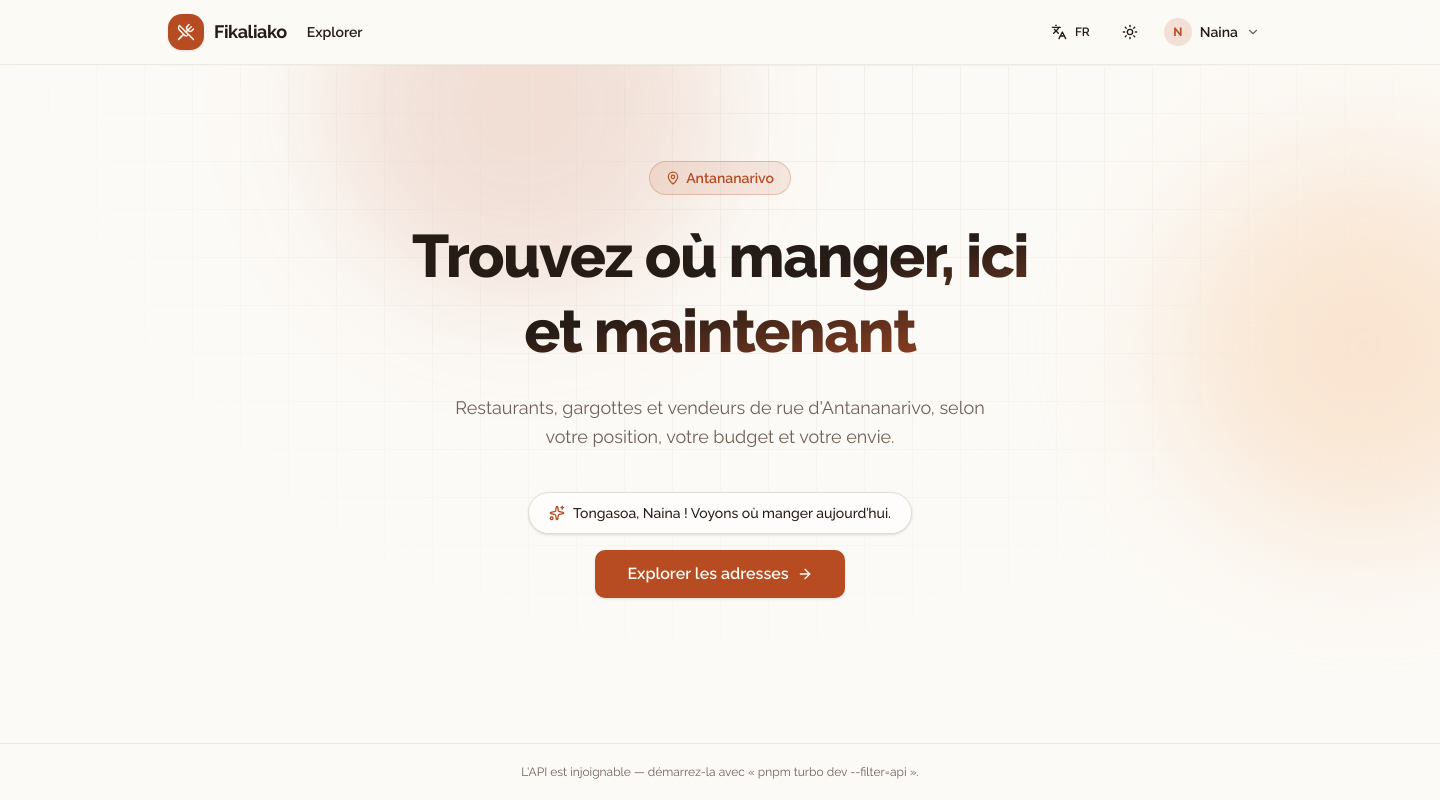
persisted session › rotates the refresh token before logout, then drops the session
Step 1. Click the button "N Naina" → (1215, 32), box [1158,14,1272,50]
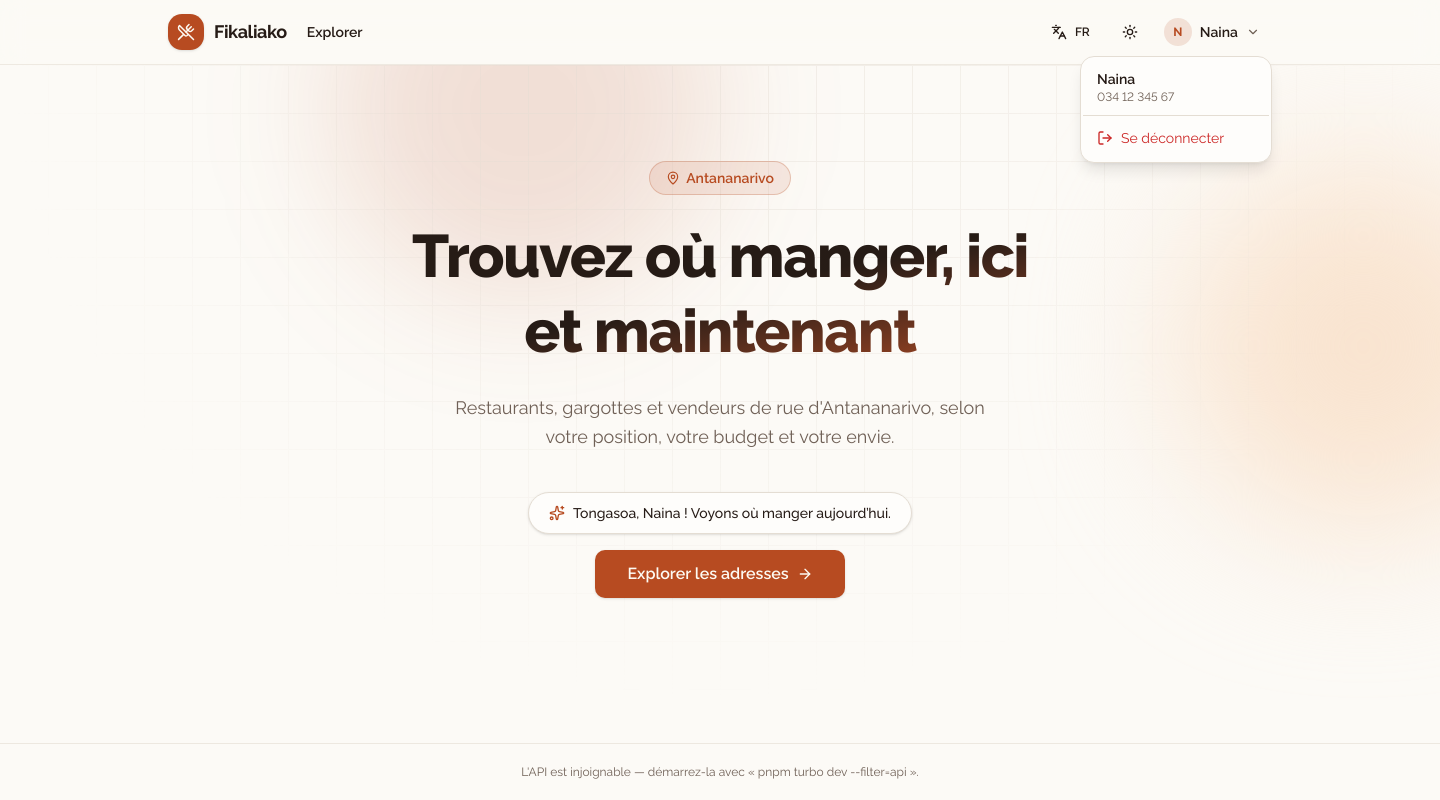
Step 2. Click the menu item "Se déconnecter" → (1161, 138), box [1097,130,1224,146]
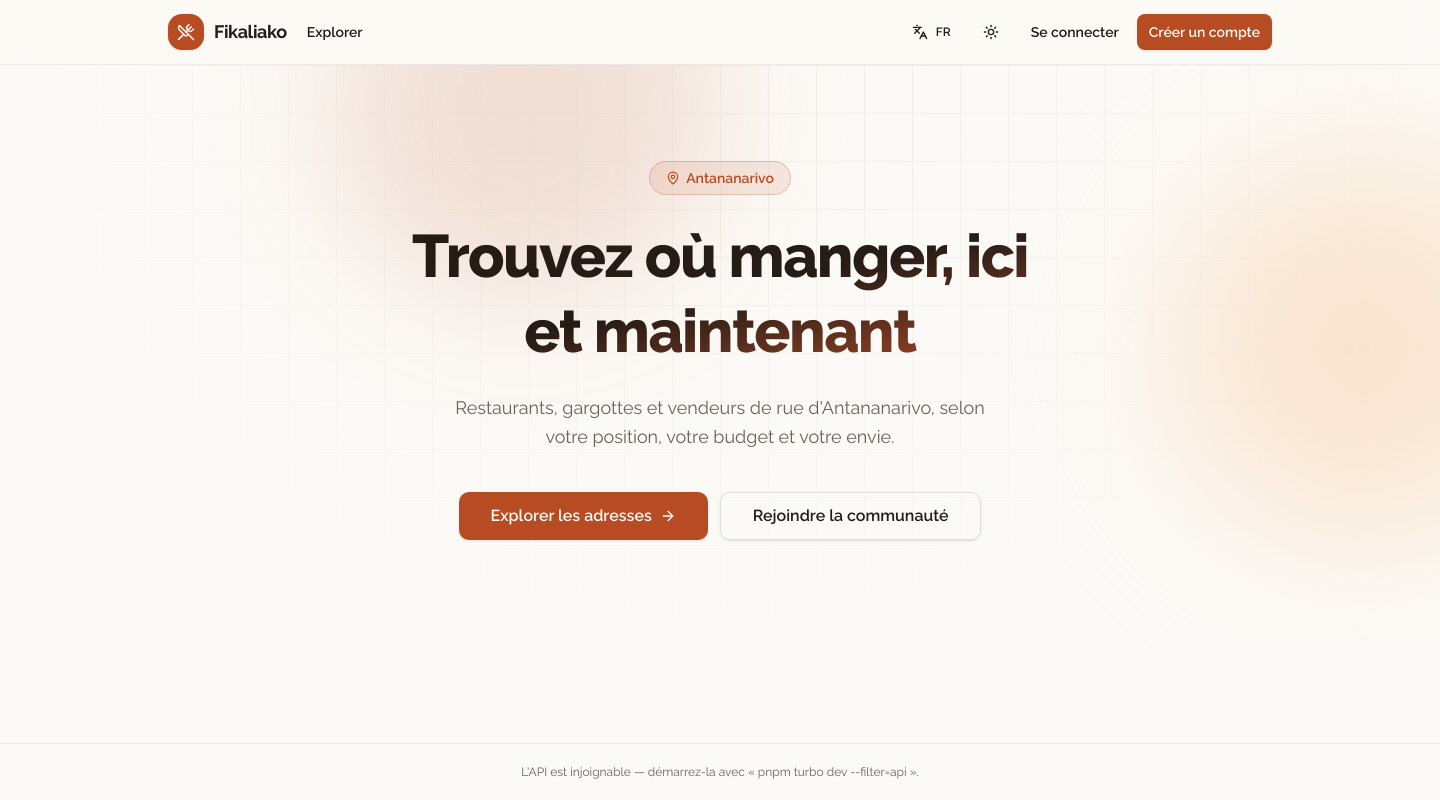
Expected: the link "Créer un compte" is shown, [1137,14,1272,50]
